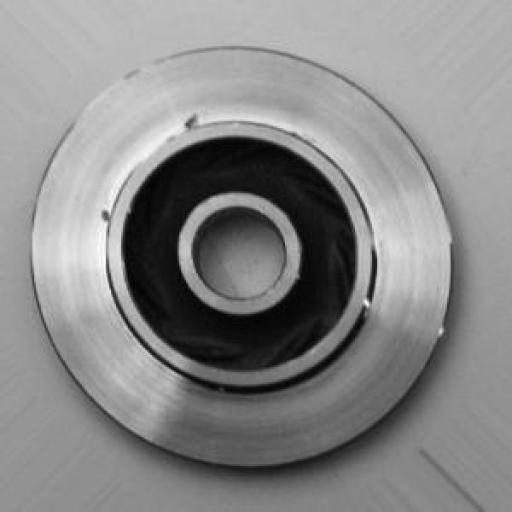defect: (70, 97, 216, 232)
